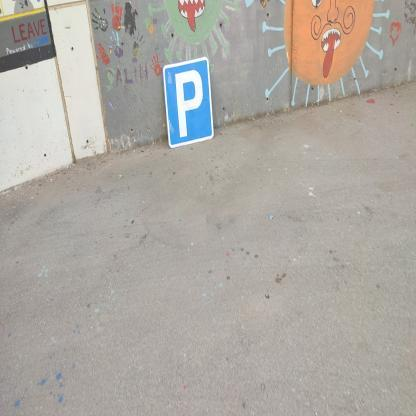parking: (162, 56, 214, 150)
